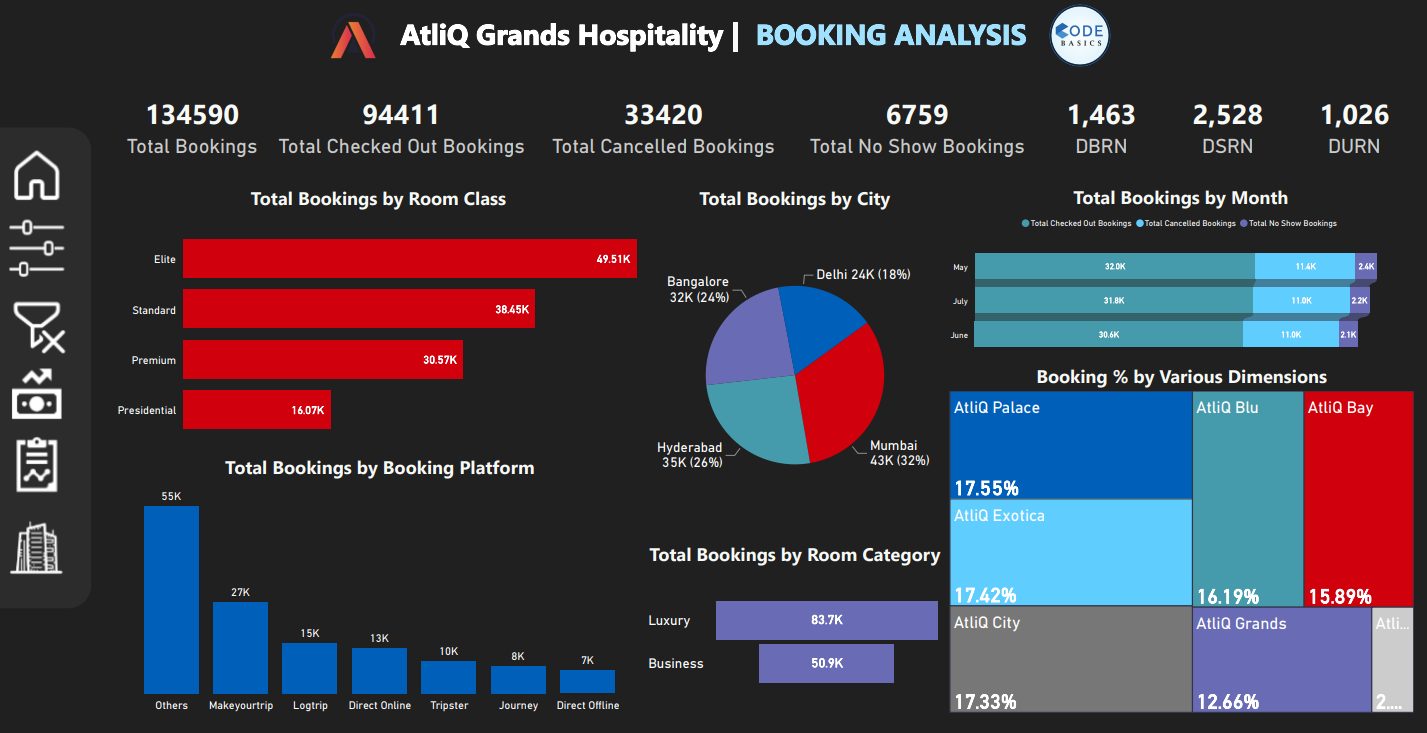

What the dashboard file says about the page in this screenshot:
{"tool":"powerbi","page":{"name":"Booking Analysis","canvas":[1890,970],"ordinal":2},"visuals":[{"type":"group","id":"g1","title":"BA Heading","box":[417.5,0,1060.4,96],"z":0},{"type":"image","title":"AtliQ Logo","box":[417.5,0,98.2,96],"z":0,"group":"g1"},{"type":"card","title":"Total Bookings","fields":{"Values":["Metrics.Total Bookings"]},"box":[150.9,109.7,210.3,112],"z":0,"group":"g2"},{"type":"image","title":"Codebasics Logo","box":[1379.7,0,98.2,96],"z":1000,"group":"g1"},{"type":"group","id":"g2","title":"BA Metrics","box":[150.9,109.7,1721.1,112],"z":1000},{"type":"card","title":"Total Successful Bookings","fields":{"Values":["Metrics.Total Successful Bookings"]},"box":[361.2,109.7,342.9,112],"z":1000,"group":"g2"},{"type":"shape","title":"Side Panel RC","box":[0,169.1,123.4,635.4],"z":1000,"group":"g3"},{"type":"textbox","title":"AGH BA Heading","box":[509.1,15.3,870.5,65.5],"z":2000,"group":"g1"},{"type":"card","title":"Total Cancelled Bookings","fields":{"Values":["Metrics.Total Cancelled Bookings"]},"box":[704,109.7,347.4,112],"z":2000,"group":"g2"},{"type":"actionButton","title":"Home","box":[0,189.7,100.6,86.9],"z":2000,"group":"g3"},{"type":"barChart","title":"Total Bookings by Room Class","fields":{"Category":["dim_rooms.room_class"],"Y":["Metrics.Total Bookings"]},"box":[150.9,244.6,701.7,356.6],"z":2000},{"type":"card","title":"Total No Show Bookings","fields":{"Values":["Metrics.Total No Show Bookings"]},"box":[1051.5,109.7,322.3,112],"z":3000,"group":"g2"},{"type":"actionButton","title":"Filter","box":[0,285.7,100.6,86.9],"z":3000,"group":"g3"},{"type":"columnChart","title":"Total Bookings by Booking Platform","fields":{"Category":["fact_bookings.booking_platform"],"Y":["Metrics.Total Bookings"]},"box":[150.9,601.1,706.3,345.1],"z":3000},{"type":"card","title":"DBRN","fields":{"Values":["Metrics.DBRN"]},"box":[1373.8,109.7,164.6,112],"z":4000,"group":"g2"},{"type":"pieChart","title":"Total Bookings by City","fields":{"Category":["dim_hotels.city"],"Y":["Metrics.Total Bookings"]},"box":[852.6,244.6,397.7,470.9],"z":4000},{"type":"card","title":"DSRN","fields":{"Values":["Metrics.DSRN"]},"box":[1538.3,109.7,169.1,112],"z":5000,"group":"g2"},{"type":"actionButton","title":"Clear Filter","box":[0,386.2,100.6,86.9],"z":5000,"group":"g3"},{"type":"funnel","title":"Total Bookings by Room Category","fields":{"Category":["dim_hotels.category"],"Y":["Metrics.Total Bookings"]},"box":[852.6,715.4,397.7,233.1],"z":5000},{"type":"card","title":"DURN","fields":{"Values":["Metrics.DURN"]},"box":[1707.5,109.7,164.6,112],"z":6000,"group":"g2"},{"type":"barChart","title":"Total Bookings by Month","fields":{"Y":["Metrics.Total Successful Bookings","Metrics.Total Cancelled Bookings","Metrics.Total No Show Bookings"],"Category":["dim_date.month_name"]},"box":[1250.2,244.4,621.8,240],"z":6000},{"type":"actionButton","title":"RA","box":[0,477.7,100.6,86.9],"z":6000,"group":"g3"},{"type":"treemap","title":"Booking % by Various Dimensions","fields":{"Group":["dim_hotels.property_name","dim_hotels.city","fact_bookings.booking_platform","dim_date.date.Variation.Date Hierarchy.Month","dim_rooms.room_class","dim_hotels.category","fact_bookings.booking_status"],"Values":["Metrics.Total Bookings"]},"box":[1250.7,480,622.6,466.3],"z":7000},{"type":"actionButton","title":"BA","box":[0,571.4,100.6,86.9],"z":7000,"group":"g3"},{"type":"actionButton","title":"PA","box":[0,681.1,100.6,86.9],"z":8000,"group":"g3"},{"type":"group","id":"g3","title":"Side Panel","box":[0,169.1,125.1,636.7],"z":9000}]}

Visuals, with their boxes in screenshot pixels (x1, y1, x2, y2), scaled from the page's 1890x970 canvas onto the 1427x733 screenshot:
"BA Heading" group: (315,0,1116,73)
"AtliQ Logo" image: (315,0,389,73)
"Total Bookings" card: (114,83,273,168)
"Codebasics Logo" image: (1042,0,1116,73)
"BA Metrics" group: (114,83,1413,168)
"Total Successful Bookings" card: (273,83,532,168)
"Side Panel RC" shape: (0,128,93,608)
"AGH BA Heading" textbox: (384,12,1042,61)
"Total Cancelled Bookings" card: (532,83,794,168)
"Home" actionButton: (0,143,76,209)
"Total Bookings by Room Class" barChart: (114,185,644,454)
"Total No Show Bookings" card: (794,83,1037,168)
"Filter" actionButton: (0,216,76,282)
"Total Bookings by Booking Platform" columnChart: (114,454,647,715)
"DBRN" card: (1037,83,1162,168)
"Total Bookings by City" pieChart: (644,185,944,541)
"DSRN" card: (1161,83,1289,168)
"Clear Filter" actionButton: (0,292,76,358)
"Total Bookings by Room Category" funnel: (644,541,944,717)
"DURN" card: (1289,83,1413,168)
"Total Bookings by Month" barChart: (944,185,1413,366)
"RA" actionButton: (0,361,76,427)
"Booking % by Various Dimensions" treemap: (944,363,1414,715)
"BA" actionButton: (0,432,76,497)
"PA" actionButton: (0,515,76,580)
"Side Panel" group: (0,128,94,609)
